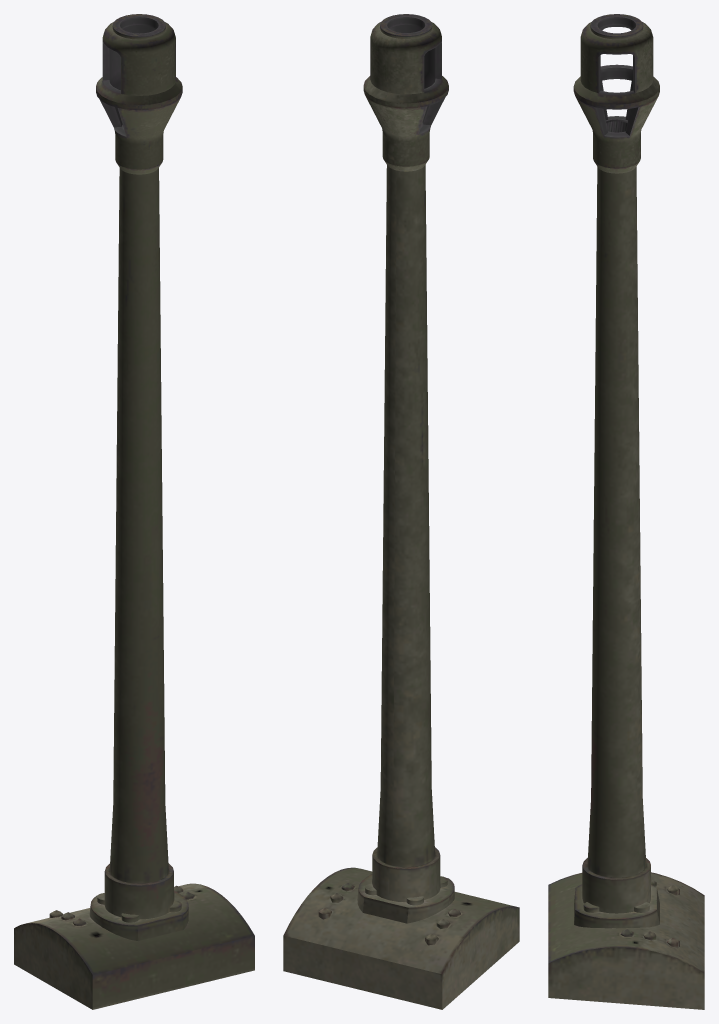
File: Gun_08.glb
3 views of the same model, side by side, from view 1: azimuth 30°, elevation 25°; view 2: azimuth 150°, elevation 25°; view 3: azimuth 270°, elevation 25° (orthographic).
Parts seen in each view (by area): view 1: set_0_group_0; view 2: set_0_group_0; view 3: set_0_group_0.
Boxes of the visible parts, left/top/right/bottom form: set_0_group_0: left=14, top=14, right=254, bottom=1009; set_0_group_0: left=283, top=14, right=519, bottom=1009; set_0_group_0: left=548, top=14, right=704, bottom=1009.
Size of the model in its own units: 0.7979 by 4.47 by 0.6705.
Materials: 1 (1 with a texture image).
